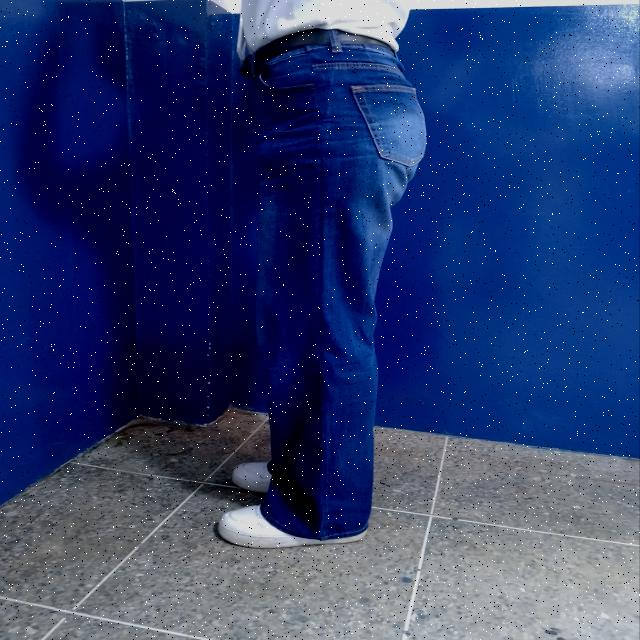pantalon_oscuro: (242, 43, 429, 539)
